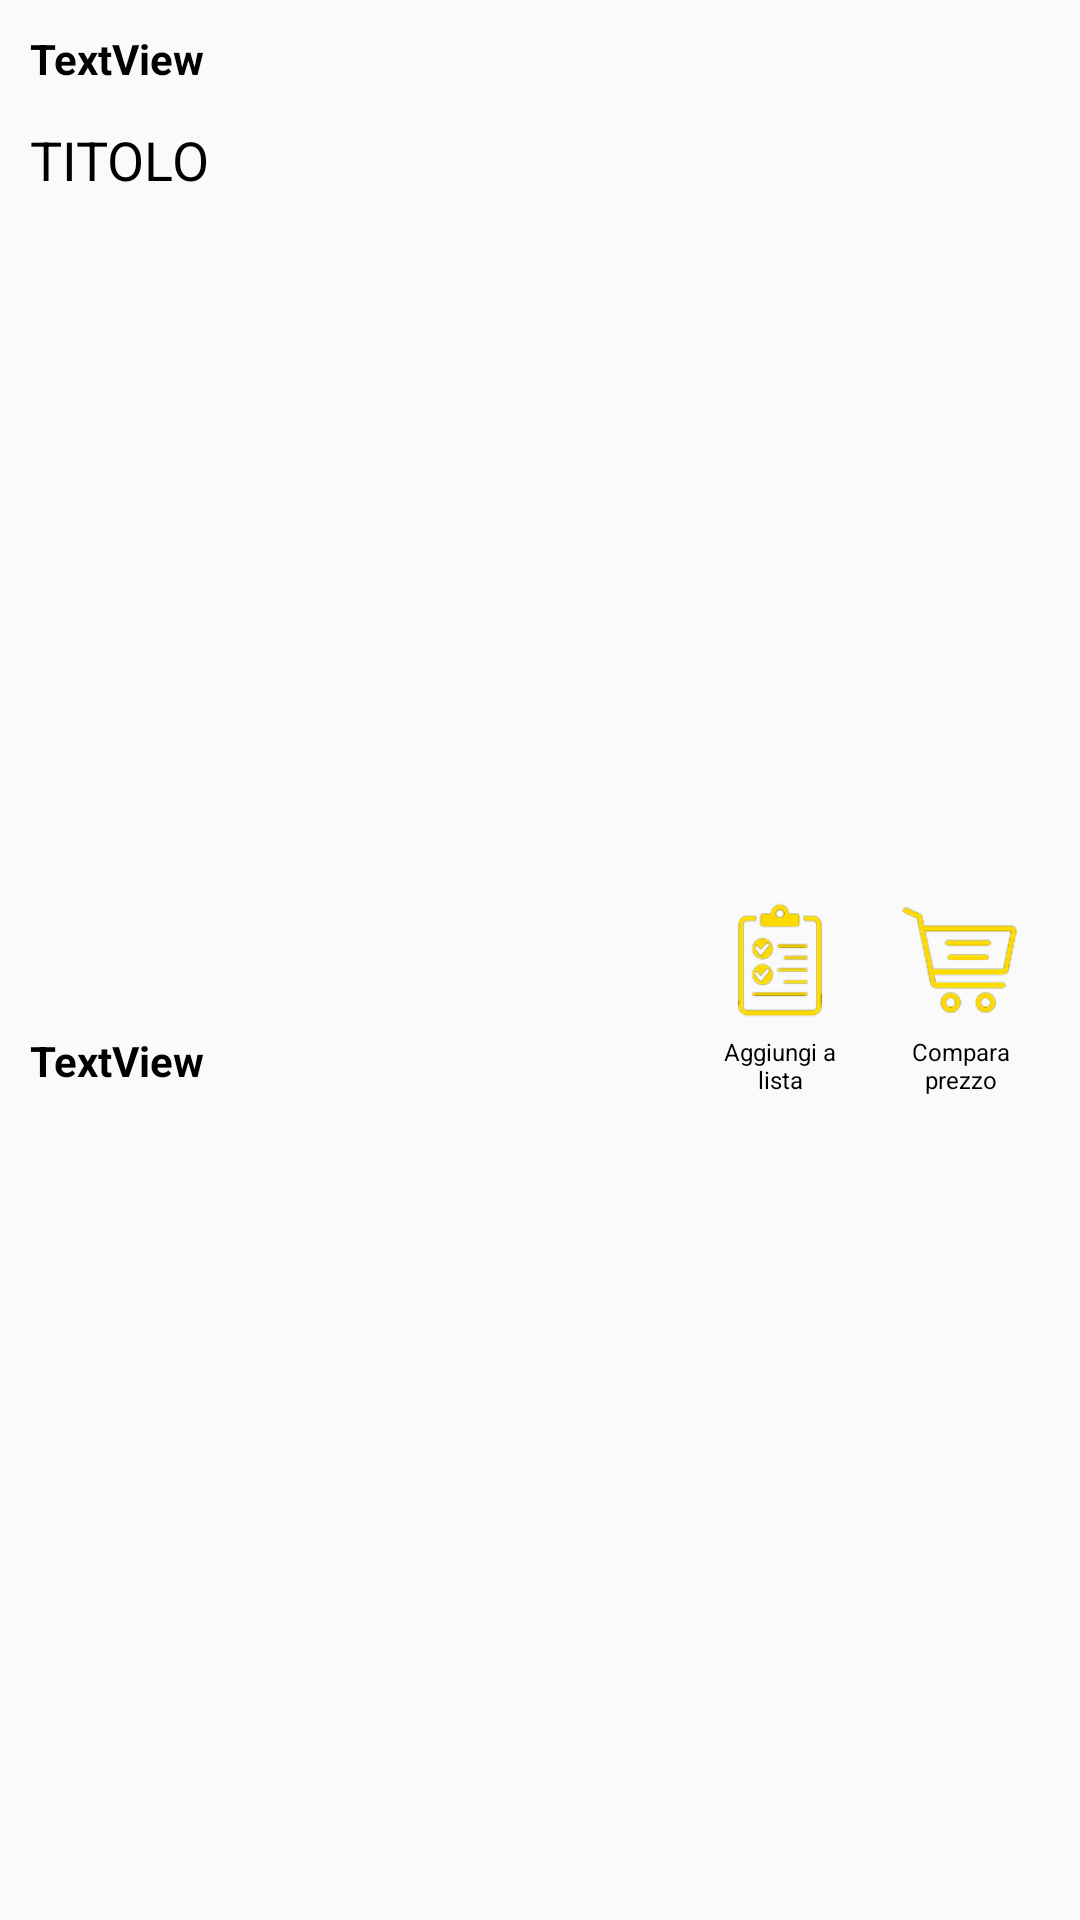

Where icons sit on this 1080×1920 app screen, as (x1, y1, x2, y2):
carrelli: (902, 907, 1017, 1013)
liste: (738, 904, 822, 1016)
